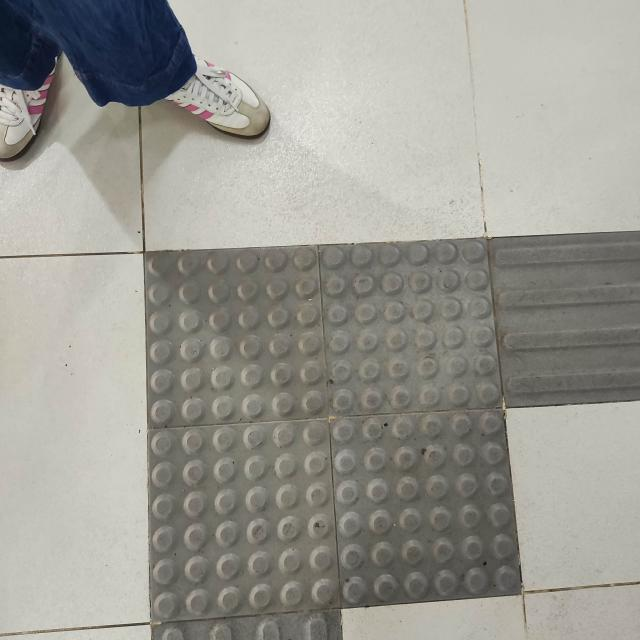kanan: (70, 201, 640, 640)
